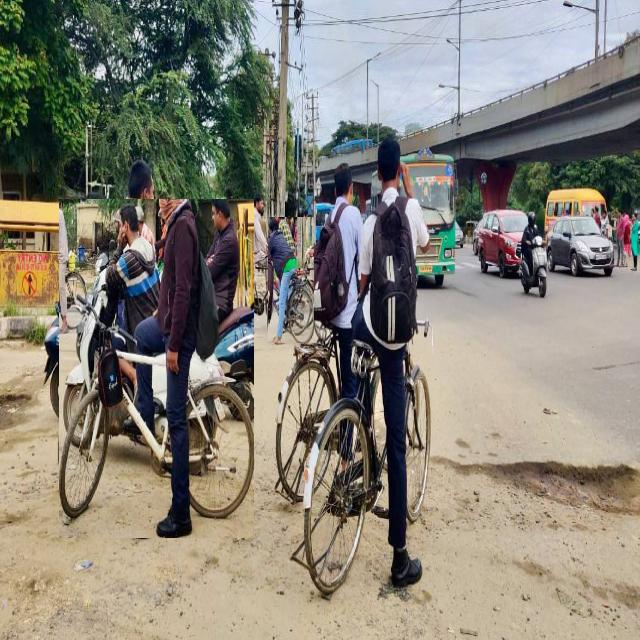bicycle: (59, 199, 254, 538), (300, 143, 431, 594), (276, 164, 362, 501), (228, 194, 278, 332), (268, 217, 314, 343)
bus: (404, 148, 456, 287)
car: (546, 217, 615, 276), (478, 210, 528, 276)
motorcycle: (520, 213, 546, 298)
